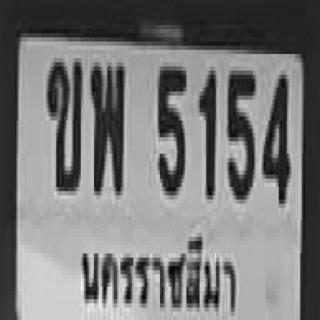A02: (42, 32, 84, 197)
A30: (86, 48, 132, 220)
N01: (191, 62, 219, 212)
N04: (262, 71, 292, 222)
N05: (222, 60, 263, 224), (151, 57, 189, 209)
P30: (70, 208, 243, 320)
